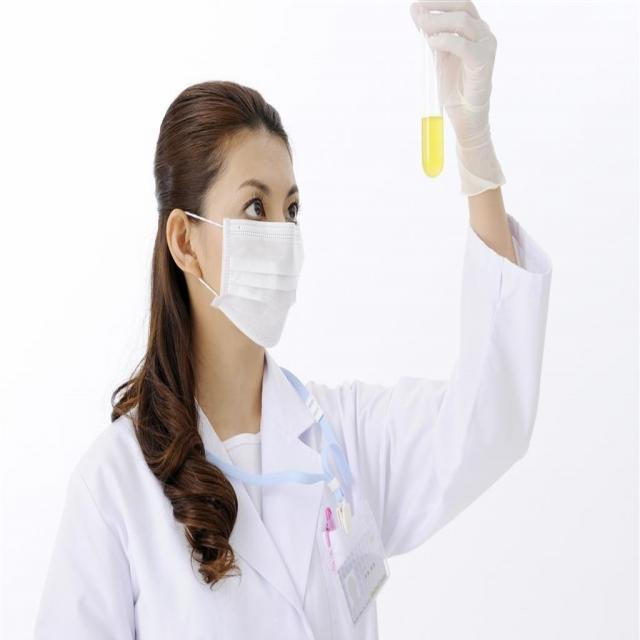mask: (208, 130, 302, 349)
